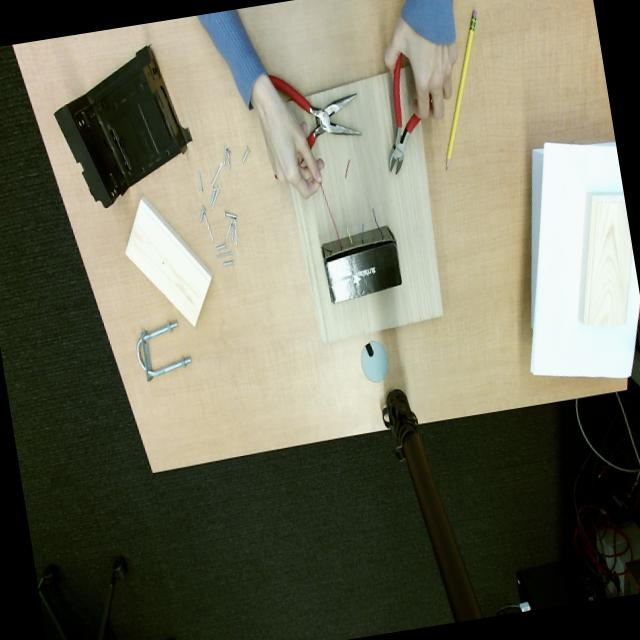pliers: (270, 76, 361, 146), (389, 55, 420, 173)
